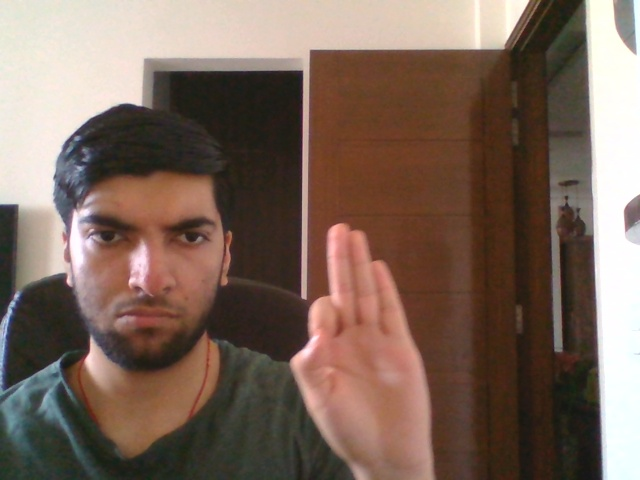LetterF: (288, 223, 434, 475)
